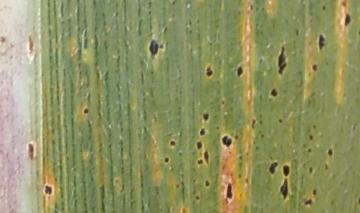tarspot: (276, 44, 289, 79), (145, 37, 164, 58), (315, 30, 329, 55), (222, 180, 236, 205), (278, 176, 291, 202), (202, 61, 216, 79), (341, 11, 355, 29), (266, 158, 279, 176), (41, 183, 56, 197), (220, 133, 234, 148), (279, 163, 292, 177), (234, 65, 246, 79), (200, 109, 212, 123), (268, 86, 280, 100), (202, 150, 212, 165), (193, 138, 204, 151), (325, 145, 336, 158), (82, 105, 91, 119), (202, 179, 213, 190), (197, 126, 207, 138), (311, 62, 321, 74), (306, 164, 316, 176), (310, 186, 319, 199), (161, 155, 172, 165), (168, 138, 177, 150), (305, 145, 315, 155), (307, 132, 316, 143), (300, 200, 314, 207), (194, 193, 203, 203), (197, 158, 204, 166)
